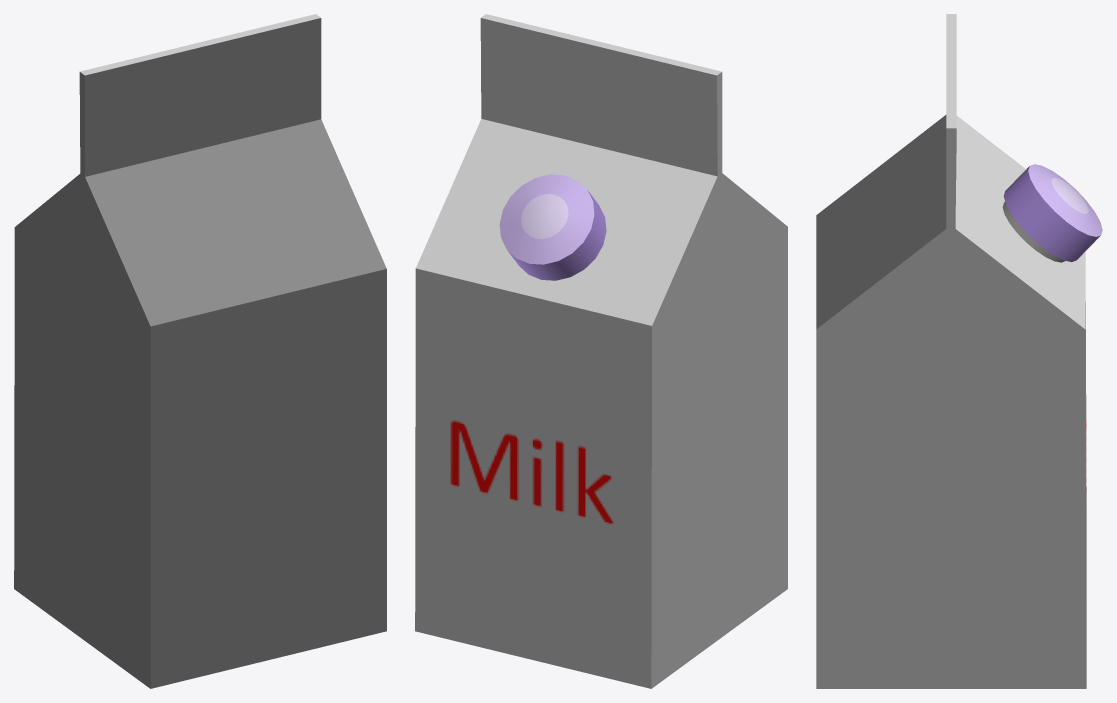
Rendered from milkcarton.fbx.
3 renders of one model, left to right at view 1: azimuth 30°, elevation 25°; view 2: azimuth 150°, elevation 25°; view 3: azimuth 270°, elevation 25°, orthographic.
Parts seen in each view (by area): view 1: pCube1; view 2: pCube1, pCylinder1; view 3: pCube1, pCylinder1, pCylinder2.
Part boxes in pixels (box(x1,y1,x2,y2)): pCube1: box(14, 14, 386, 688); pCube1: box(415, 14, 787, 688); pCylinder1: box(499, 174, 606, 280); pCube1: box(816, 14, 1086, 688); pCylinder1: box(1003, 164, 1102, 261); pCylinder2: box(1002, 202, 1065, 262).
Size of the model in its own units: 5.7 by 13.02 by 6.03.
1 material, 1 textured.
